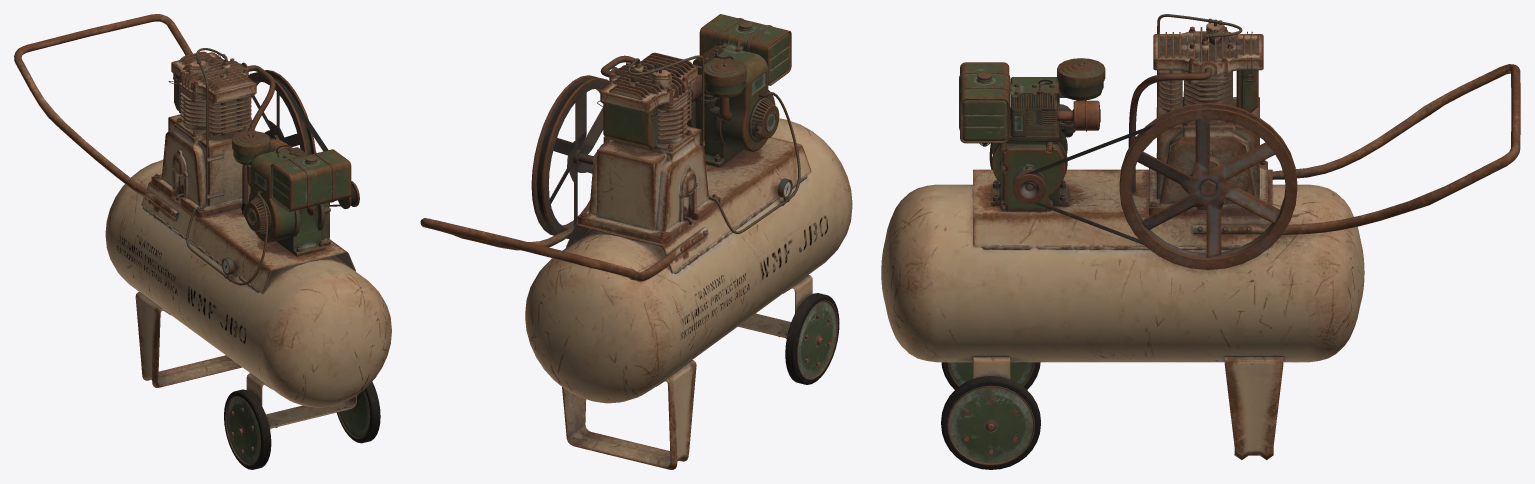
The model's file is air-compressor.glb.
3 renders of one model, left to right at view 1: azimuth 30°, elevation 25°; view 2: azimuth 150°, elevation 25°; view 3: azimuth 270°, elevation 25°, orthographic. The views are drawn at different scales.
Parts seen in each view (by area): view 1: old_military_compressor; view 2: old_military_compressor; view 3: old_military_compressor.
Part boxes in pixels (x1,y1,x2,y2): old_military_compressor: [14, 14, 391, 469]; old_military_compressor: [420, 14, 852, 469]; old_military_compressor: [881, 14, 1520, 469].
Bounding box in the file's own units: 0.5983 × 1.18 × 1.68.
2 materials, 2 textured.
